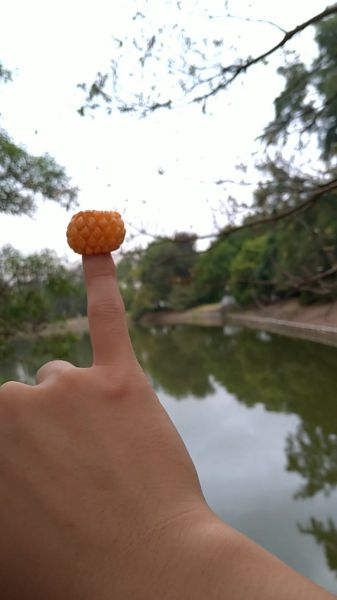eggs: (67, 211, 125, 253)
